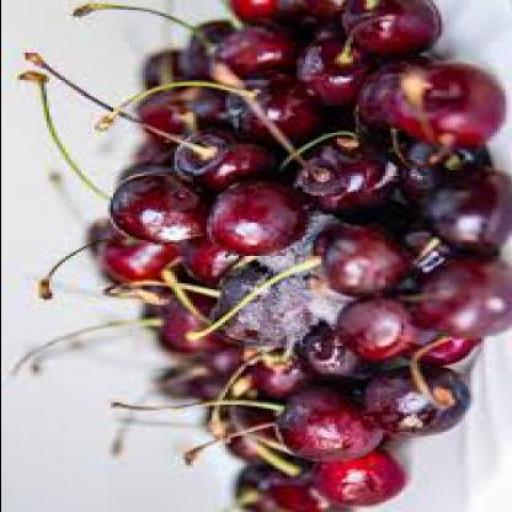biodegradable: (394, 258, 509, 340), (288, 135, 394, 218), (408, 64, 502, 156), (418, 166, 510, 256), (272, 391, 382, 463), (203, 180, 307, 256), (304, 223, 407, 299), (358, 368, 467, 438), (106, 176, 205, 246), (224, 72, 315, 148), (166, 131, 275, 194), (206, 268, 288, 346), (392, 138, 486, 205), (247, 213, 336, 283), (349, 63, 421, 146), (302, 450, 400, 510), (336, 2, 437, 58), (288, 328, 374, 391), (328, 300, 410, 366), (203, 23, 291, 80), (246, 351, 342, 403), (294, 37, 362, 109), (155, 291, 222, 358), (214, 409, 288, 469), (96, 240, 170, 288), (278, 277, 344, 329), (135, 90, 192, 149), (402, 326, 482, 368), (168, 244, 242, 288), (274, 2, 341, 45), (397, 228, 451, 280), (176, 24, 226, 78), (252, 475, 324, 511), (176, 82, 230, 128), (232, 465, 278, 511), (139, 52, 176, 102), (195, 348, 246, 383), (184, 375, 234, 407), (221, 2, 275, 31), (106, 166, 170, 188), (80, 221, 114, 260), (128, 139, 165, 166), (136, 307, 163, 334)
